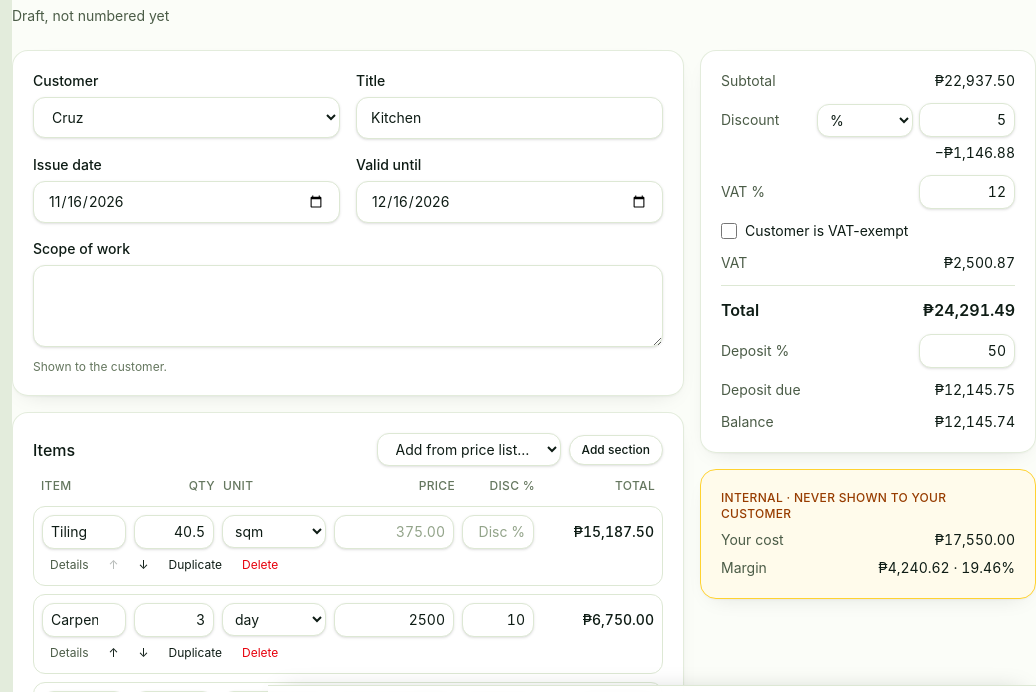
Test case: quote builder › reveals the per-line margin in the details
Click the 1st button "Details". click: point(69, 565)
box: [42, 553, 96, 577]
(page scrolled)
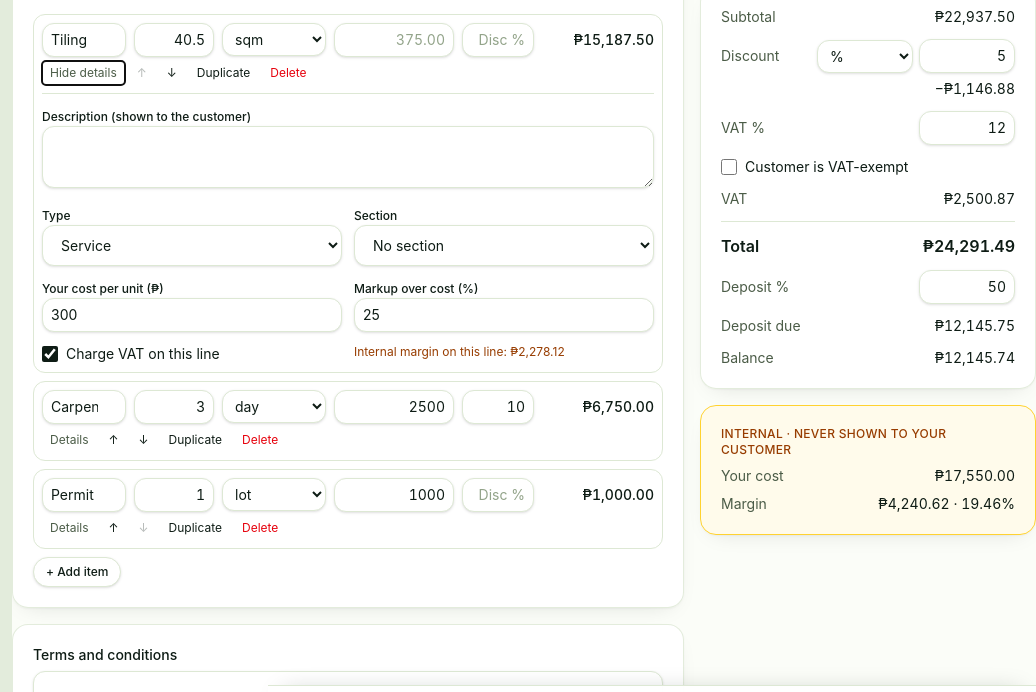
Expected: the text with test id "margin-a" shows "Internal margin on this line", [354, 344, 510, 359]
